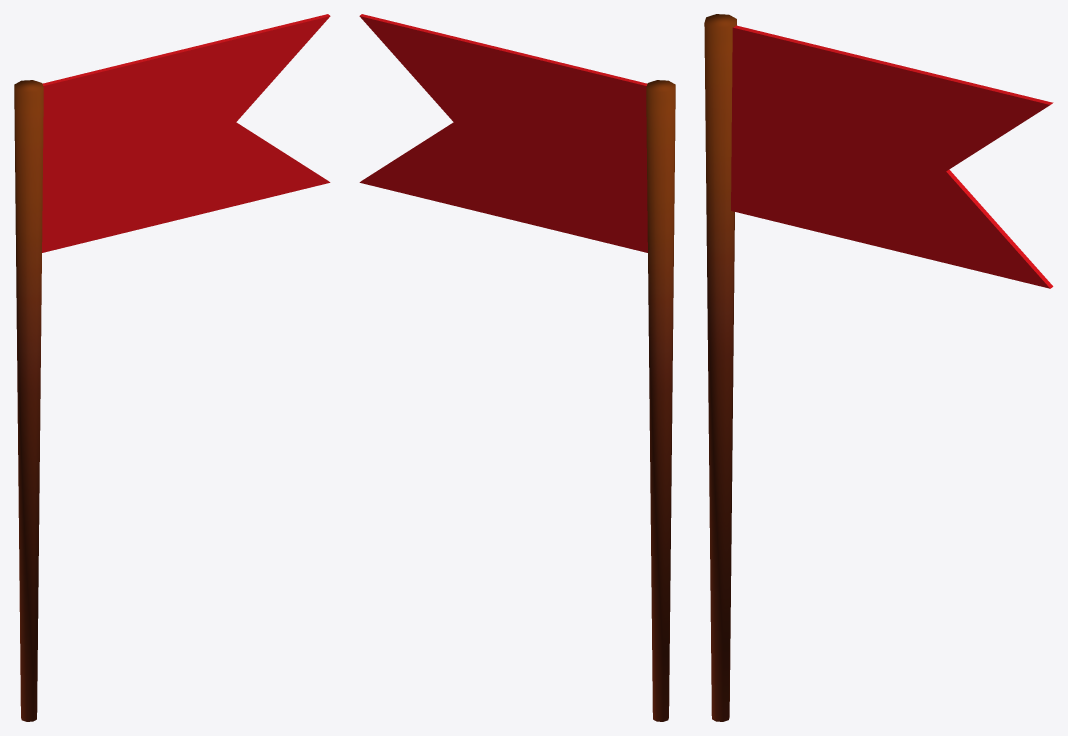
The model's file is Skewer_01.fbx.
The picture shows the model from 3 angles, left to right: view 1: azimuth 30°, elevation 25°; view 2: azimuth 150°, elevation 25°; view 3: azimuth 330°, elevation 25°; orthographic projection. The views are drawn at different scales.
Parts seen in each view (by area): view 1: Skewer_01; view 2: Skewer_01; view 3: Skewer_01.
Boxes of the visible parts, left/top/right/bottom form: Skewer_01: left=14, top=14, right=330, bottom=721; Skewer_01: left=359, top=14, right=675, bottom=721; Skewer_01: left=704, top=14, right=1053, bottom=721.
Bounding box in the file's own units: 43.07 × 3.64 × 82.99.
